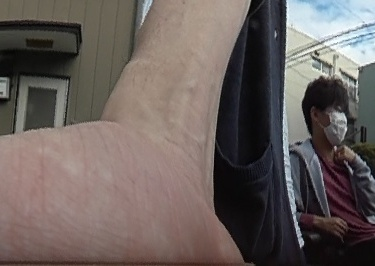person: (285, 77, 375, 266)
